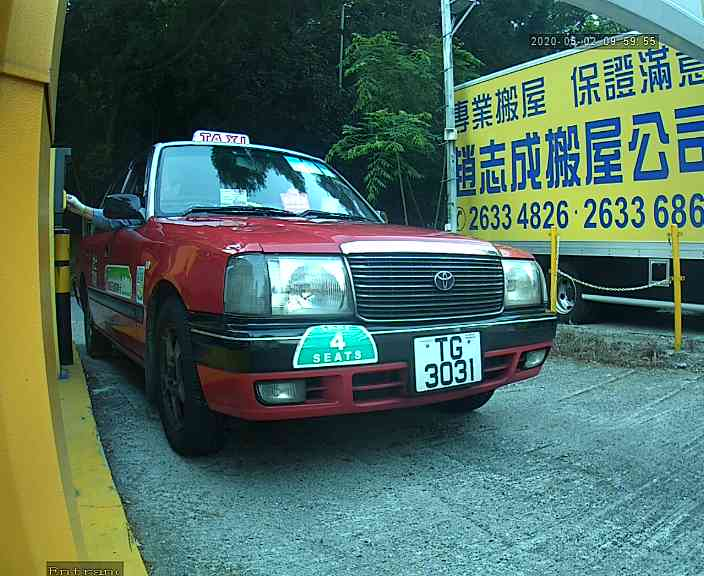taxi: (60, 98, 579, 468)
taxi_mark: (279, 307, 399, 393)
